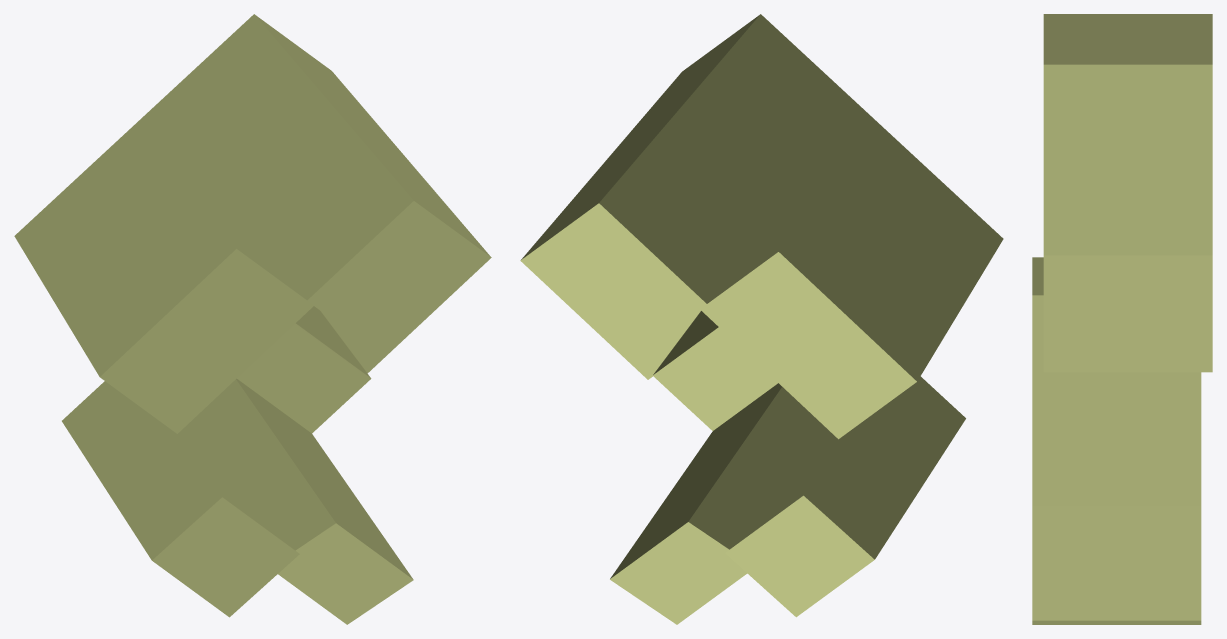
3 views of the same model, side by side, from view 1: azimuth 30°, elevation 25°; view 2: azimuth 150°, elevation 25°; view 3: azimuth 270°, elevation 25° (orthographic). The views are drawn at different scales.
Parts seen in each view (by area): view 1: 0_1_0_2_1_3_2_0_1_0; view 2: 0_1_0_2_1_3_2_0_1_0; view 3: 0_1_0_2_1_3_2_0_1_0.
Part boxes in pixels (x1=…): 0_1_0_2_1_3_2_0_1_0: x1=14, y1=14, x2=491, y2=624; 0_1_0_2_1_3_2_0_1_0: x1=520, y1=14, x2=1003, y2=624; 0_1_0_2_1_3_2_0_1_0: x1=1032, y1=14, x2=1212, y2=624.
Bounding box in the file's own units: 17.81 × 23.54 × 6.4.
